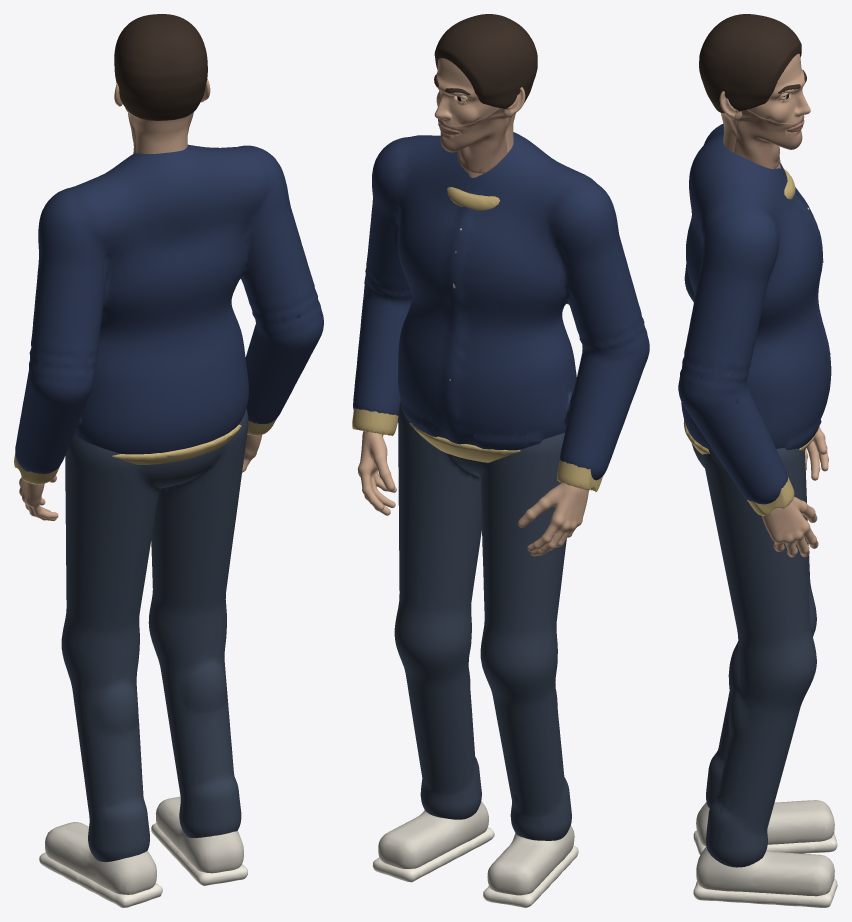
Rendered from man_couple.glb.
The picture shows the model from 3 angles, left to right: view 1: azimuth 30°, elevation 25°; view 2: azimuth 150°, elevation 25°; view 3: azimuth 270°, elevation 25°; orthographic projection.
Parts seen in each view (by area): view 1: man_couple_body, man_couple_head, man_couple_hands; view 2: man_couple_body, man_couple_head, man_couple_hands; view 3: man_couple_body, man_couple_head, man_couple_hands.
Part boxes in pixels (box(x1,y1,x2,y2)): man_couple_body: box(15, 144, 323, 907); man_couple_head: box(114, 14, 210, 153); man_couple_hands: box(14, 418, 276, 520); man_couple_body: box(353, 132, 649, 907); man_couple_head: box(434, 14, 537, 177); man_couple_hands: box(352, 408, 602, 556); man_couple_body: box(678, 124, 837, 907); man_couple_head: box(699, 14, 810, 169); man_couple_hands: box(747, 426, 828, 557).
Size of the model in its own units: 0.6211 by 1.78 by 0.302.
